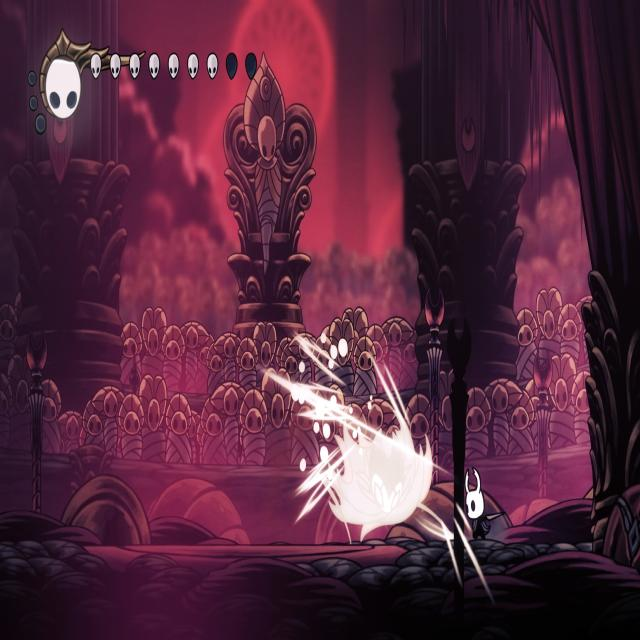Dash Uppercut: (319, 340, 449, 542)
Player: (466, 464, 502, 542)
